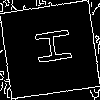H: (25, 25, 73, 69)
